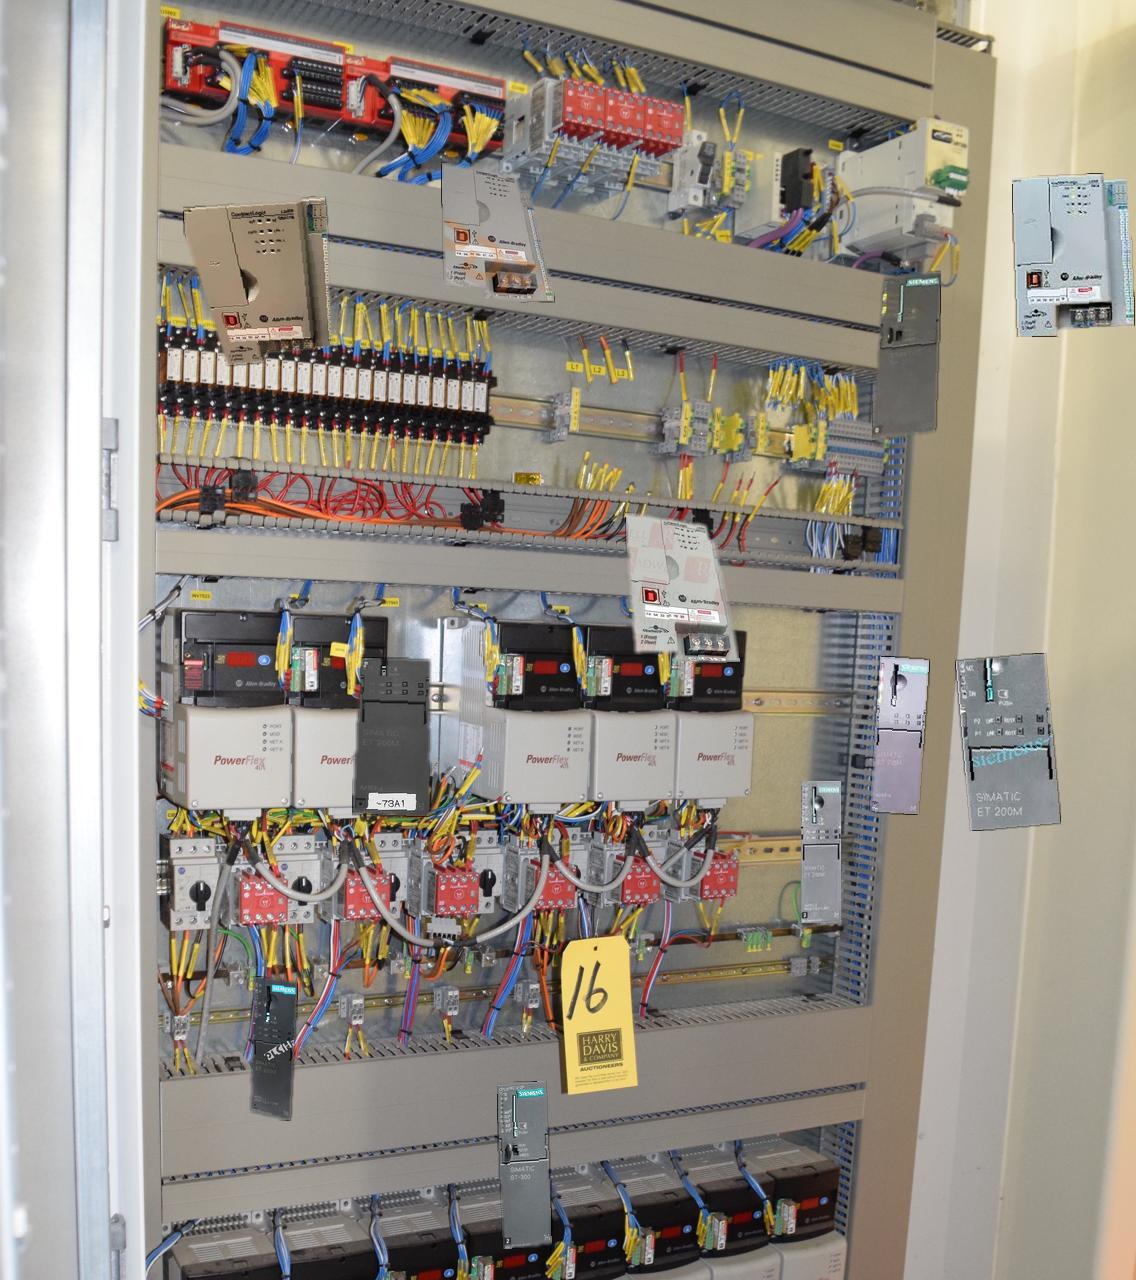AllenBradley: (184, 199, 331, 364), (1012, 174, 1133, 336), (625, 513, 739, 661), (442, 163, 553, 301)
Siemens: (872, 272, 940, 439), (497, 1081, 550, 1248)
